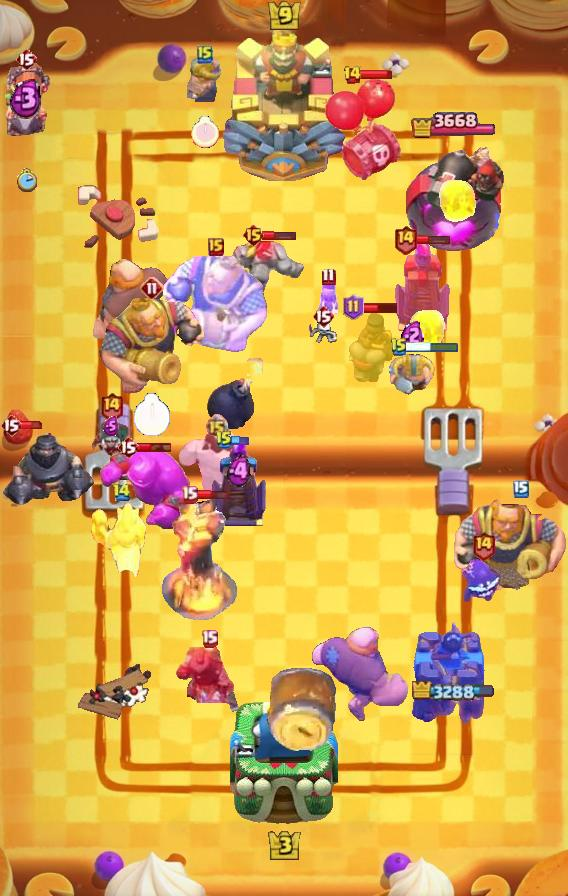baby-dragon: (206, 358, 266, 430)
balloon: (309, 625, 411, 725), (91, 258, 171, 346)
battle-healer: (1, 62, 51, 144)
clone: (98, 445, 194, 531)
dirt: (266, 664, 338, 754)
electro-dragon: (161, 496, 239, 624)
electro-spirit: (9, 77, 43, 119), (227, 456, 251, 489), (400, 318, 423, 352), (103, 416, 119, 436)
elite-barbarian: (343, 310, 395, 384)
elixir: (133, 393, 171, 437), (191, 116, 219, 148), (16, 168, 37, 192)
emote: (405, 342, 458, 355), (361, 301, 398, 315), (197, 487, 232, 500), (137, 441, 173, 453), (263, 231, 298, 242), (417, 234, 452, 245), (359, 68, 393, 79), (13, 420, 45, 430), (230, 434, 249, 445)
freeze: (91, 499, 151, 583)
giant-skeleton: (96, 294, 209, 398), (452, 494, 568, 594), (163, 250, 270, 352)
goblin: (316, 280, 340, 324)
goblin-giant: (388, 353, 436, 396), (187, 57, 223, 104)
heal-spirit: (308, 321, 338, 343)
ice-spirit-evolution-symbol: (392, 237, 454, 333), (209, 436, 269, 528)
inferno-dragon: (176, 647, 242, 719)
king-tower: (220, 21, 348, 181), (230, 698, 338, 826)
queen-tower: (411, 619, 495, 731)
rage: (179, 427, 253, 497)
royal-guardian: (0, 424, 98, 510)
royal-recruit-evolution: (324, 78, 406, 184)
selected: (411, 110, 495, 142), (412, 681, 494, 703)
spear-goblin: (462, 559, 504, 605)
tesla: (89, 421, 133, 477)
text: (394, 224, 419, 255), (99, 391, 124, 421), (472, 531, 497, 561), (140, 276, 164, 300), (242, 223, 265, 247), (343, 294, 364, 320), (205, 414, 228, 437), (15, 47, 37, 71), (312, 304, 334, 328), (0, 413, 22, 437), (117, 435, 139, 459), (342, 65, 361, 85), (390, 337, 408, 357), (215, 430, 233, 450), (113, 483, 132, 501), (181, 484, 199, 503), (201, 629, 218, 648), (197, 44, 213, 64), (208, 238, 224, 256), (513, 480, 529, 498), (321, 267, 335, 286)
tower-bar: (402, 136, 504, 256)
valkyrie: (434, 175, 480, 231), (404, 305, 450, 361)
valkyrie-evolution: (230, 236, 306, 298)
